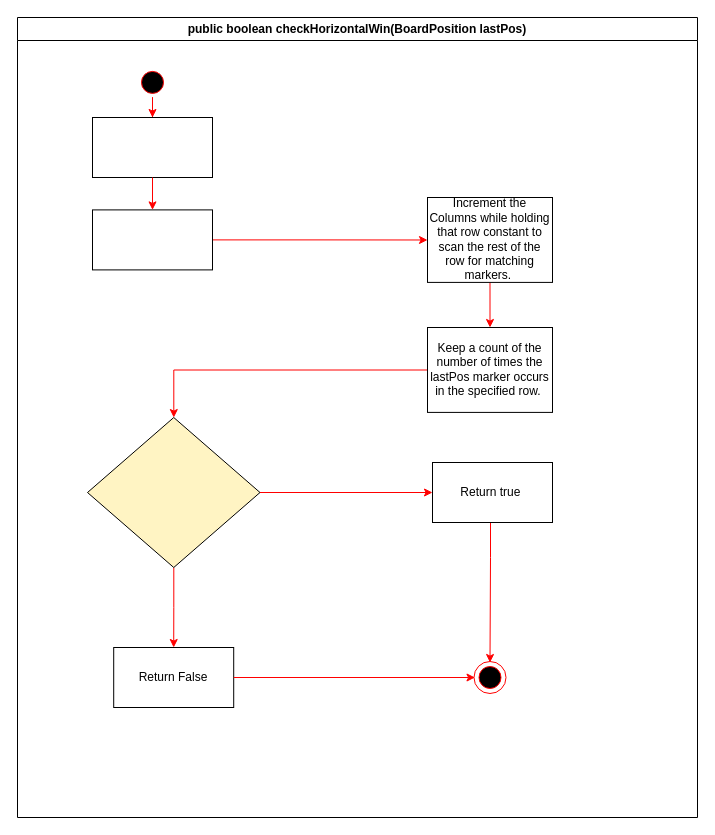
This 715x835 diagram has some shape labels left out. Here are the shapes that lost their labels. From the top down, the box of each, then its label:
(92, 116, 212, 178): Check row by row to find a row with 5 of the same character all side by side.
(92, 209, 212, 270): Use pos.getRow() to find the row that the last marker was place in.
(86, 416, 260, 568): Does the row have 5 of the same marker as lastPos?
